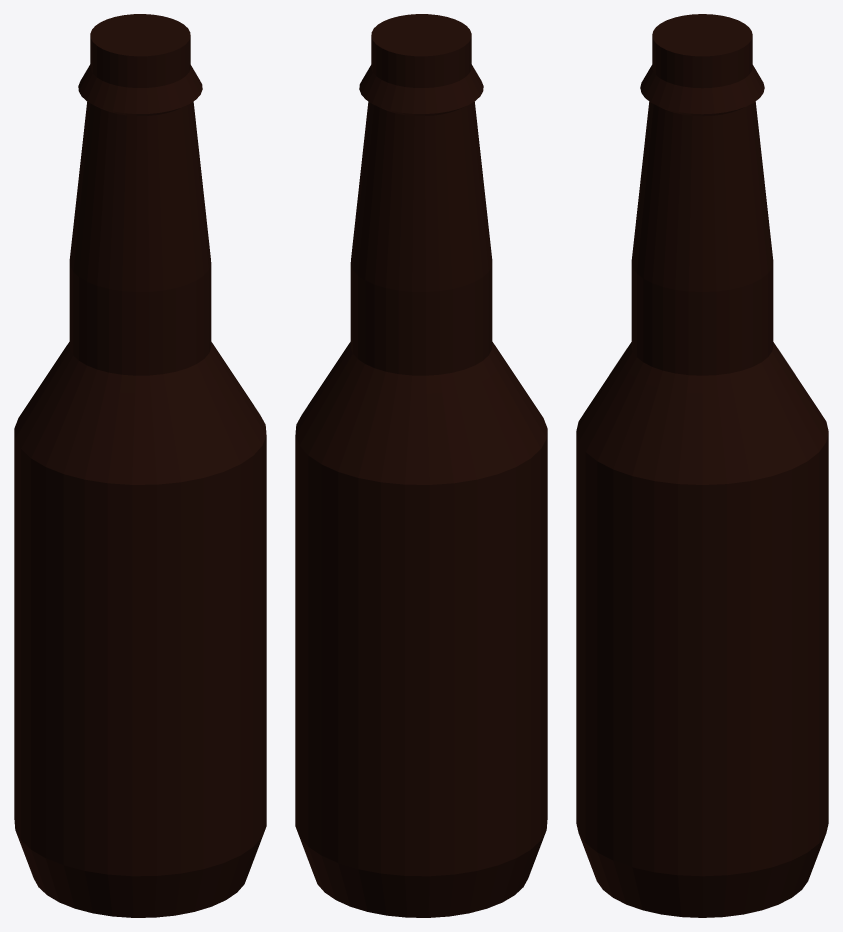
File: Molotov.obj
3 views of the same model, side by side, from view 1: azimuth 30°, elevation 25°; view 2: azimuth 150°, elevation 25°; view 3: azimuth 270°, elevation 25° (orthographic).
Parts seen in each view (by area): view 1: Cylinder; view 2: Cylinder; view 3: Cylinder.
Part boxes in pixels (x1,y1,x2,y2): Cylinder: (14,14,266,917); Cylinder: (295,14,547,917); Cylinder: (576,14,828,917).
Size of the model in its own units: 1.24 by 4.54 by 1.24.
